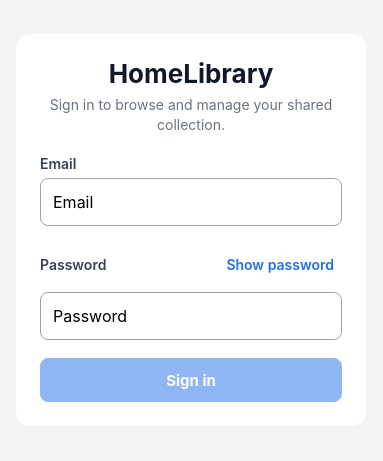
Scenario: <LoginScreen /> › shows a login error returned by the authentication service
Type "reader@example.com" into the field with placeholder "Email" at (191, 202), box [40,178,342,226]
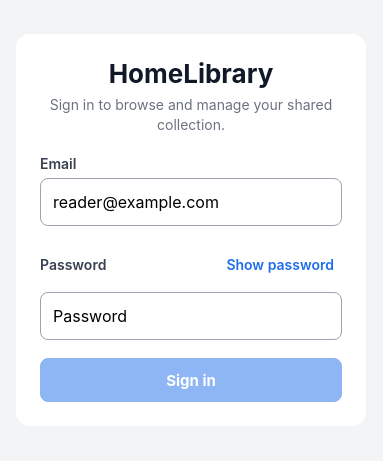
Type "wrong-password" into the password field with placeholder "Password" at (191, 316), box [40,292,342,340]
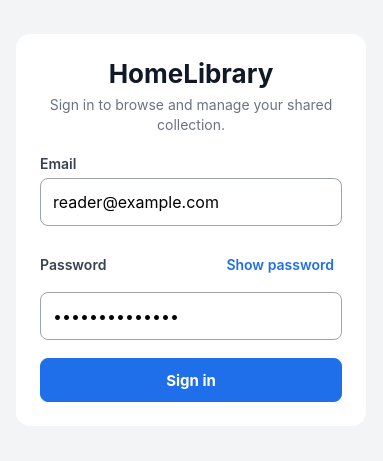
Click the button "Sign in" at (191, 380), box [40,358,342,402]
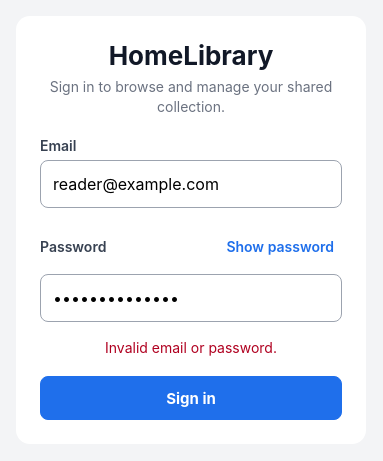
Result: the text "Invalid email or password." is shown at [105,339,277,356]
